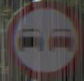No overtake: (12, 6, 75, 65)
